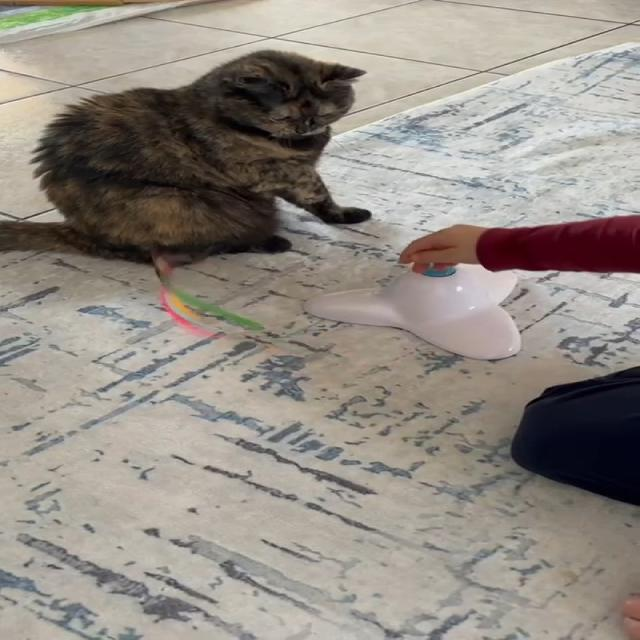authorized: (0, 48, 372, 266)
